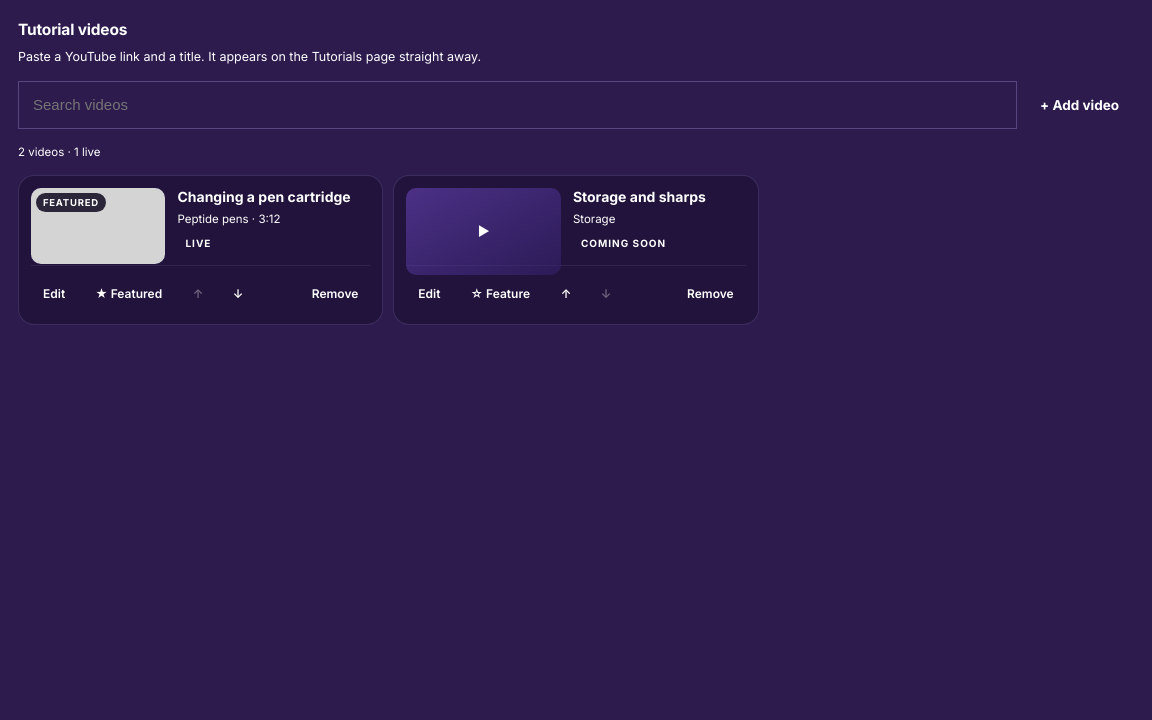
Test case: VideosCard — adding a video › refuses a link that is not a YouTube video
The width and height of the screenshot is (1152, 720).
Expected: the list item "Changing a pen cartridge" is shown, [18, 175, 383, 325]
Click the button "+ Add video": click(1080, 105) [1025, 83, 1134, 127]
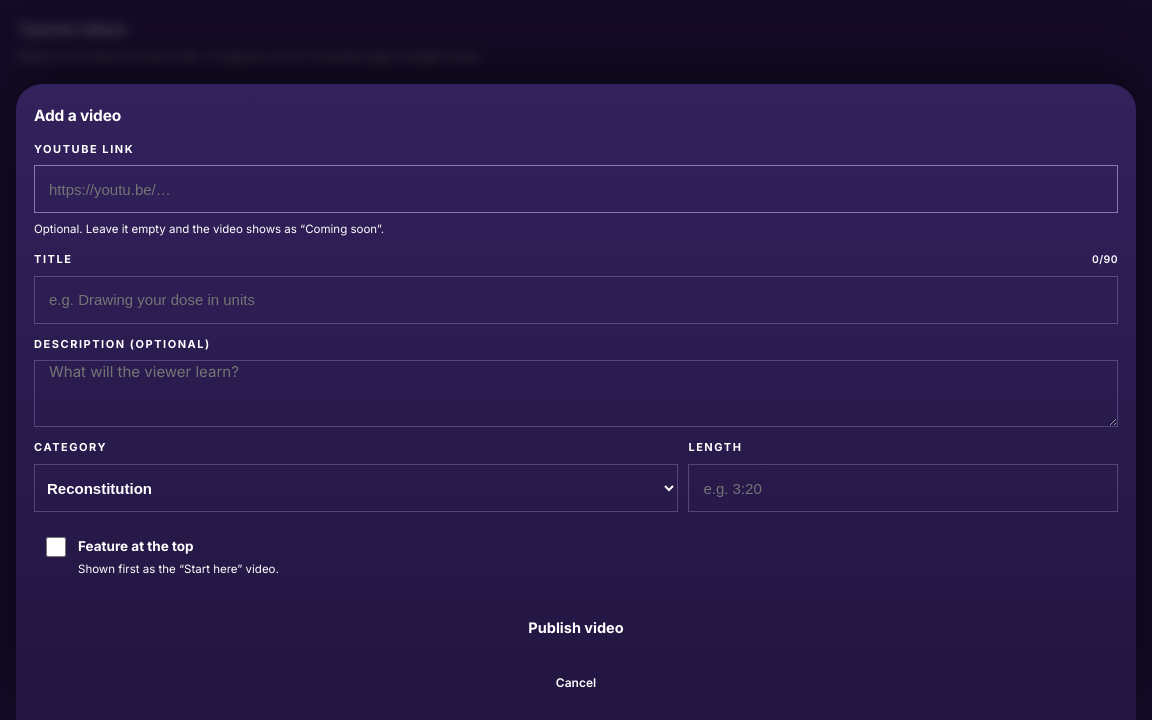
In the field labelled "YouTube link": (576, 189) [34, 165, 1118, 213], type "https://vimeo.com/123"
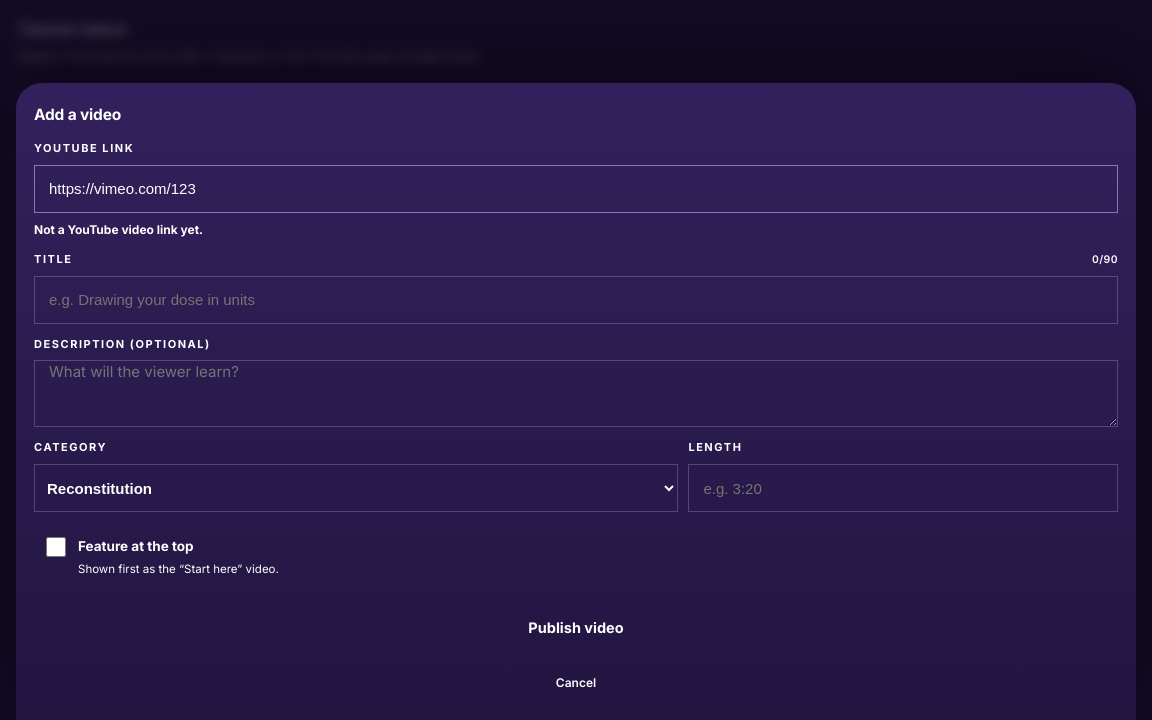
In the field labelled "Title 0/90": (576, 300) [34, 276, 1118, 324], type "Wrong site"
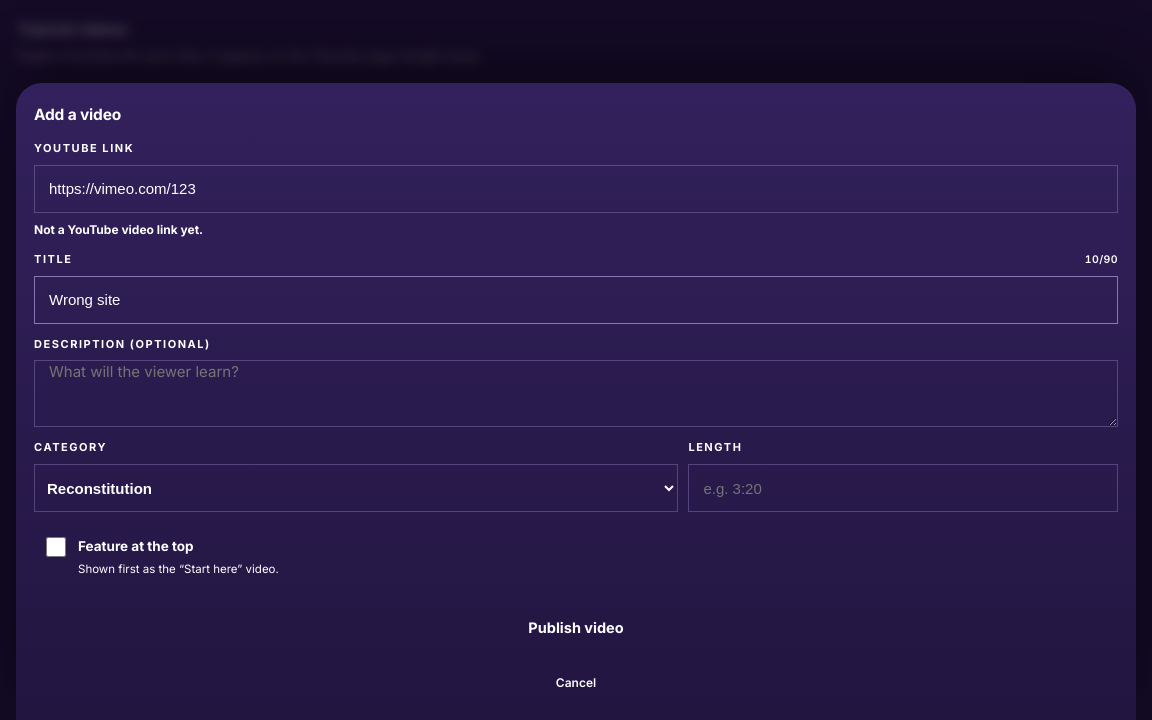
Click the button "Publish video": click(576, 627) [34, 602, 1118, 652]
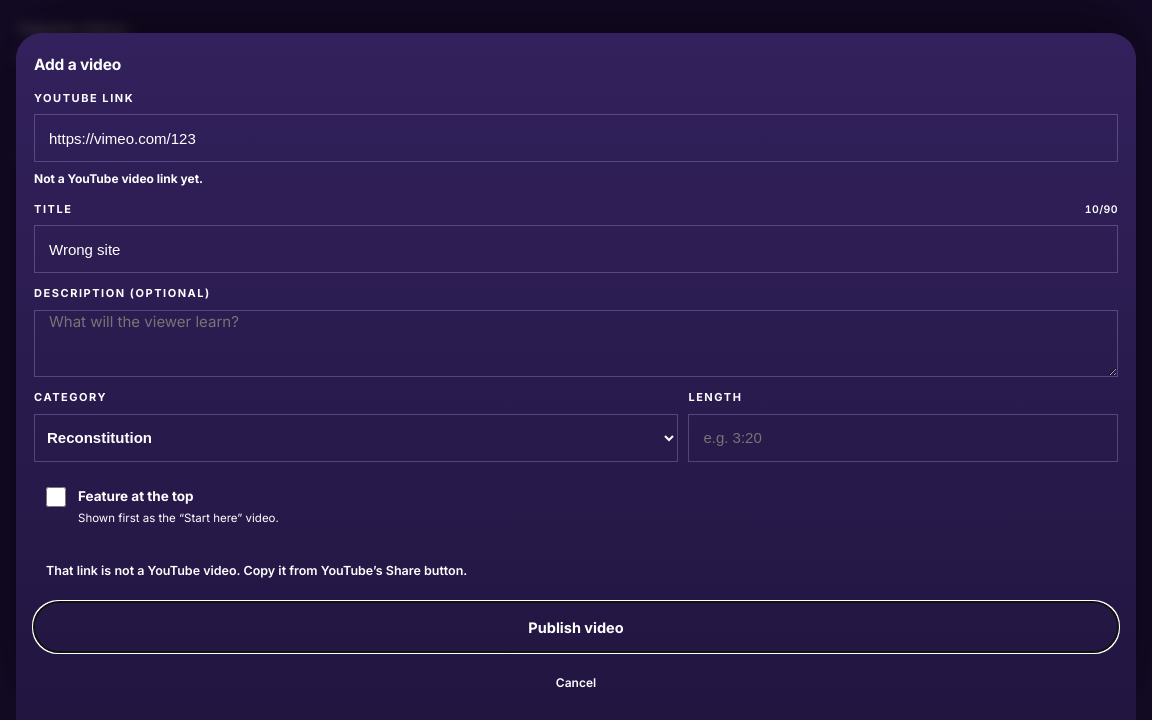
Now the message shows "YouTube", box [46, 563, 467, 578]
